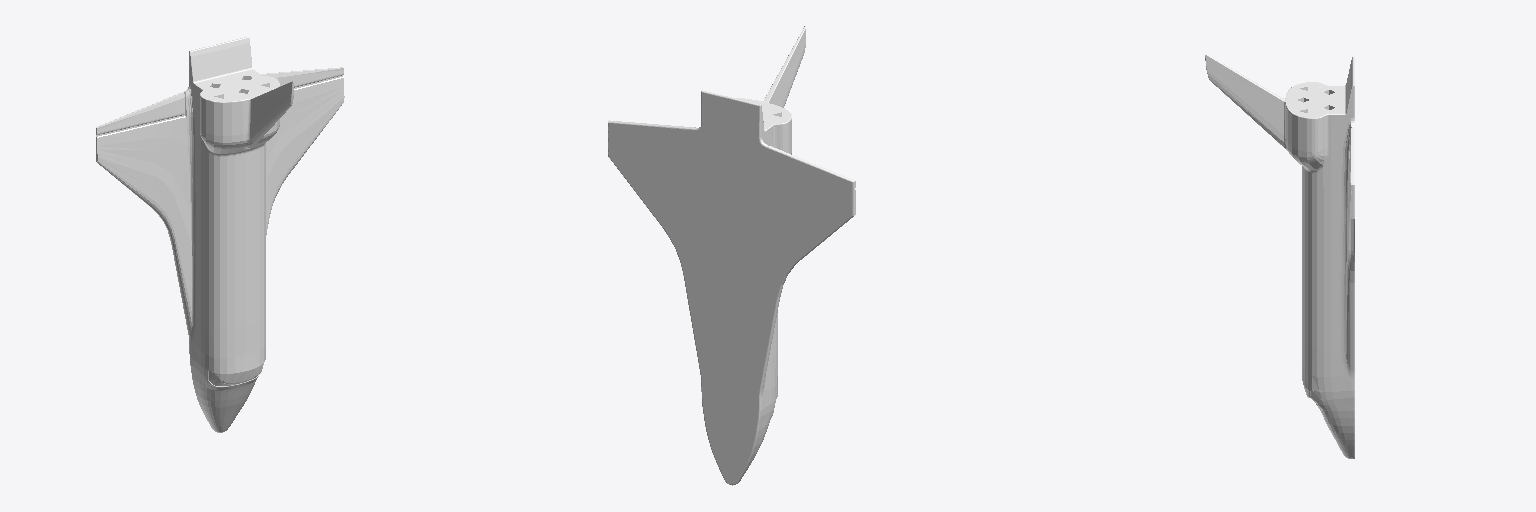
Rendered from Shuttle.obj.
The picture shows the model from 3 angles: view 1: azimuth 30°, elevation 25°; view 2: azimuth 150°, elevation 25°; view 3: azimuth 270°, elevation 25°; orthographic projection.
Parts seen in each view (by area): view 1: Object.1; view 2: Object.1; view 3: Object.1.
Part boxes in pixels (x1,y1,x2,y2): Object.1: (96, 37, 344, 432); Object.1: (608, 26, 855, 485); Object.1: (1205, 54, 1354, 458).
Size of the model in its own units: 75.31 by 118 by 39.73.